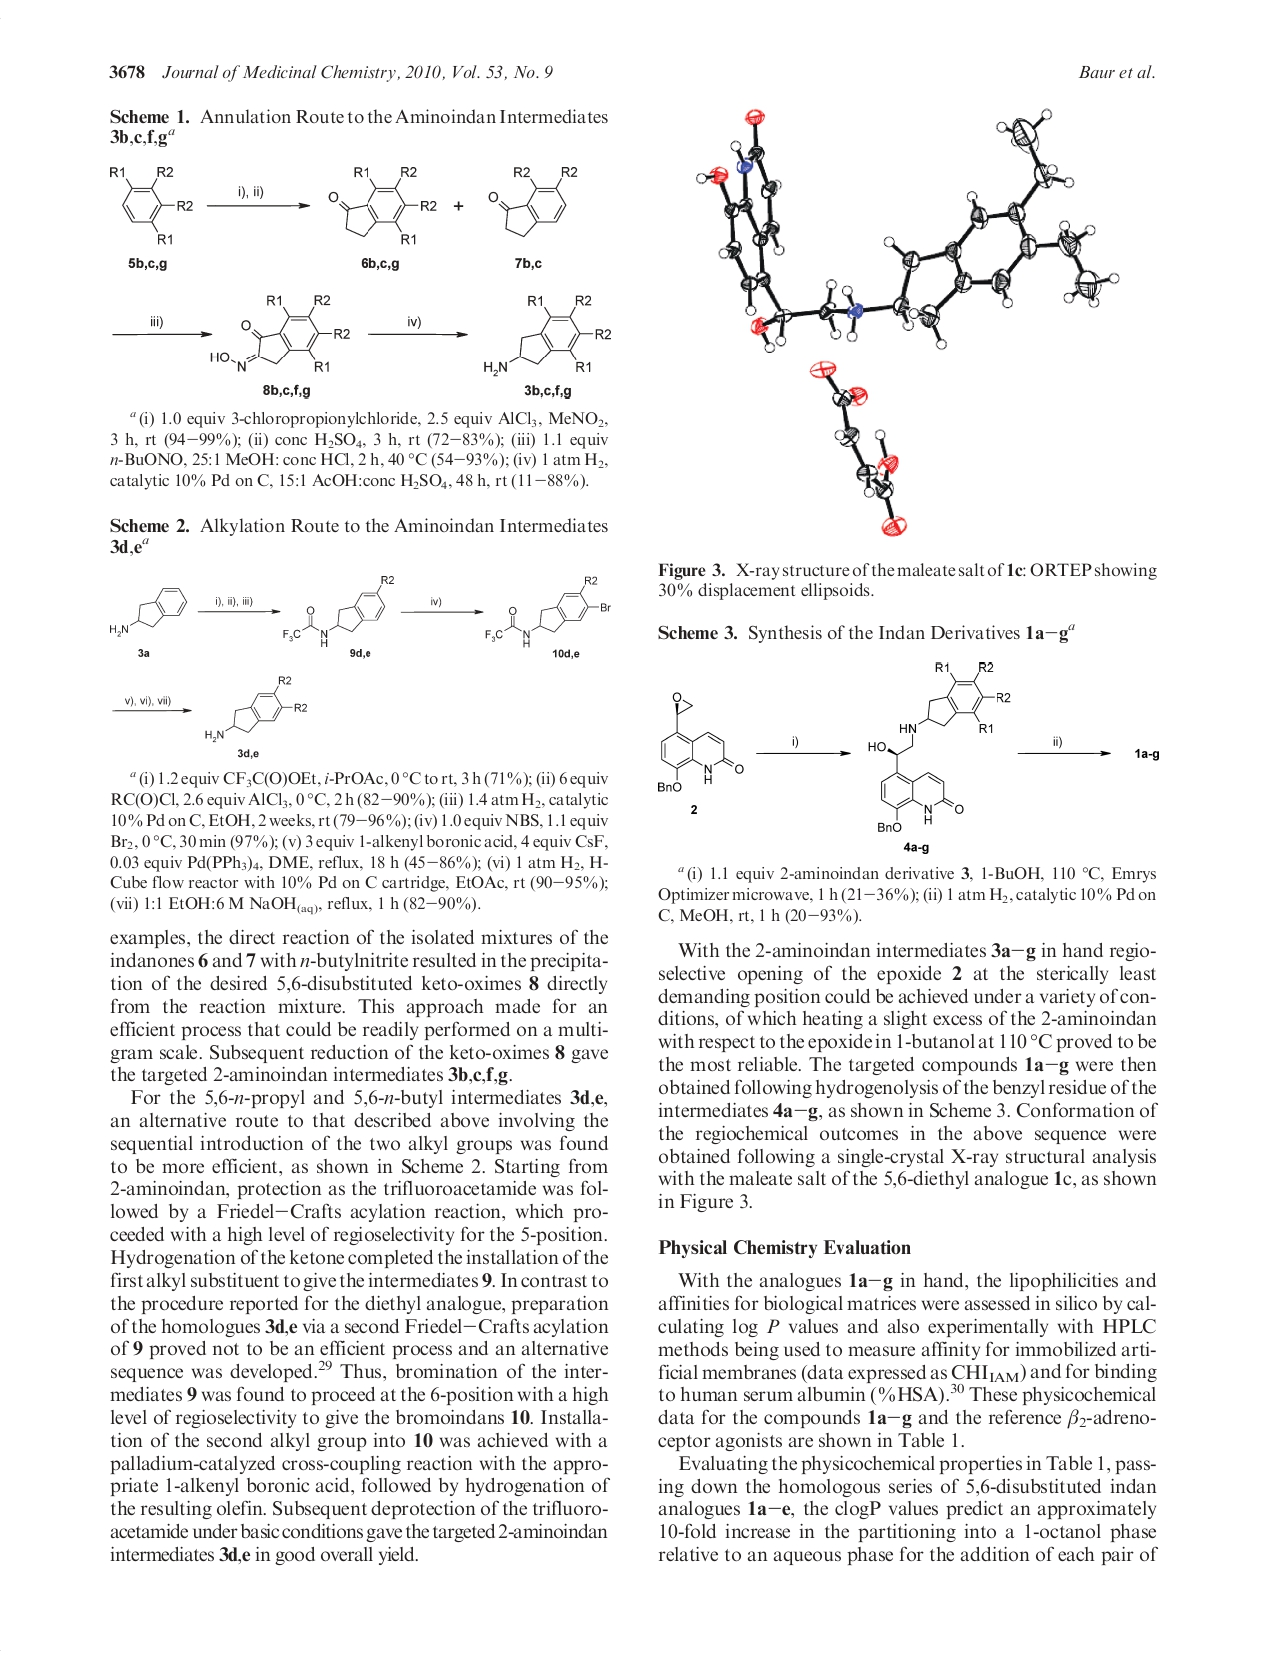exist_molecular: (852, 658, 1019, 838), (206, 290, 352, 380), (481, 287, 618, 383), (323, 160, 444, 253), (191, 668, 316, 753), (278, 571, 404, 654), (477, 571, 614, 648), (657, 690, 750, 801), (481, 152, 586, 243), (106, 154, 197, 251), (104, 581, 197, 641)
